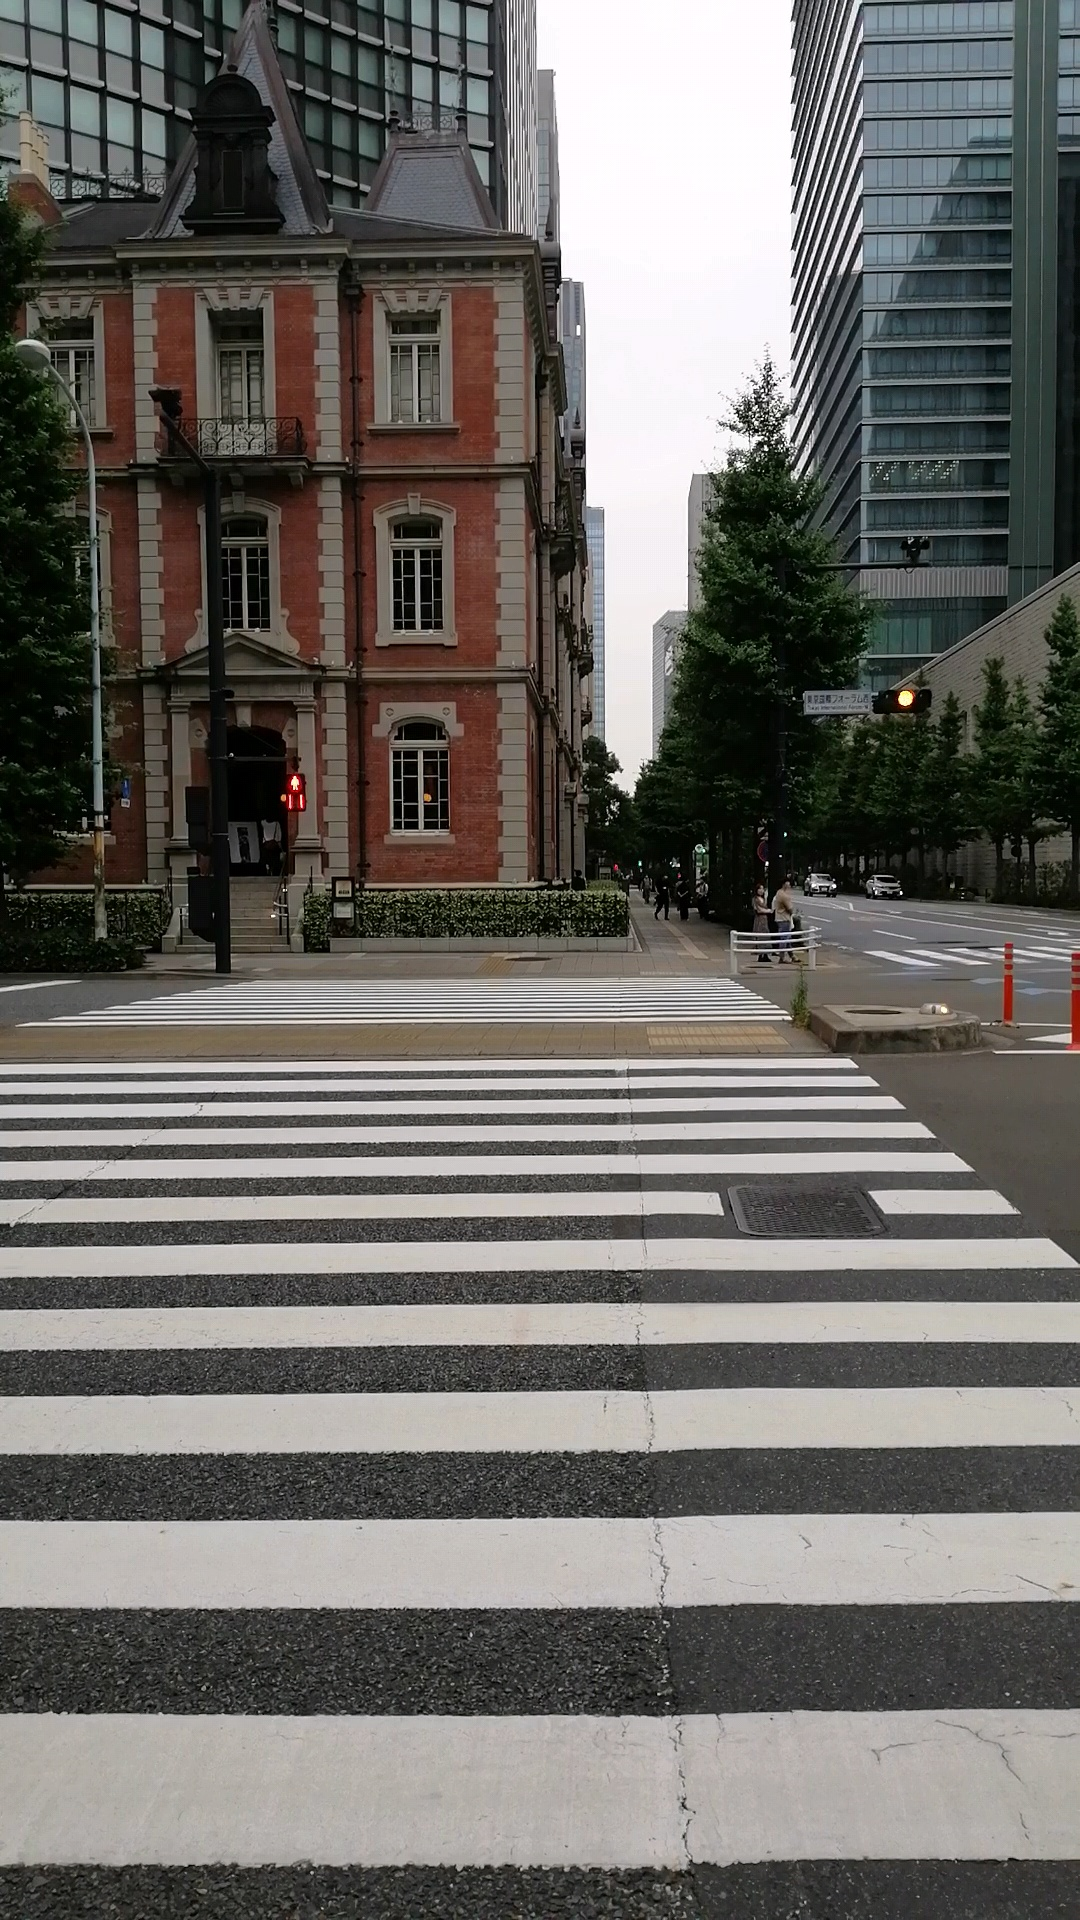red: (281, 771, 309, 812)
